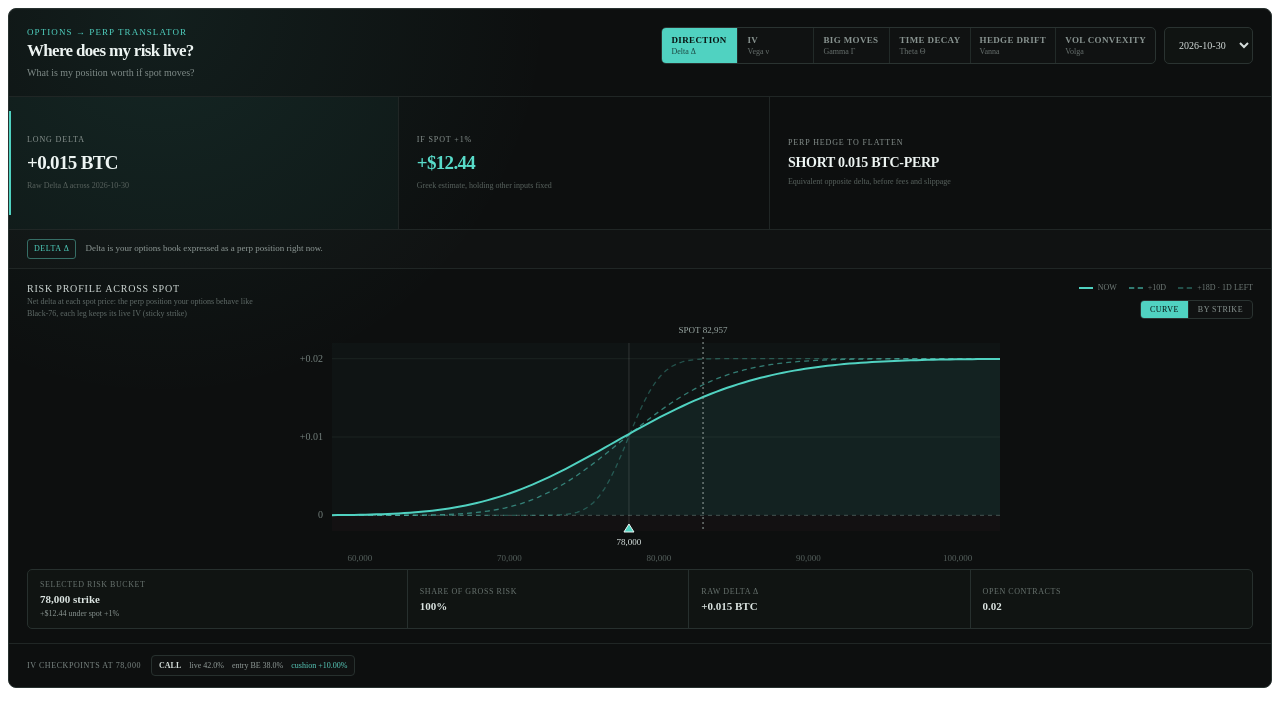
Test case: PortfolioVegaCurve › opens on the spot profile with one line per horizon and keeps the strike bars
Expected: the text "Risk profile across spot" is shown, [27, 283, 180, 294]
Expected: the text "Now" is shown, [1079, 283, 1117, 292]
Click the button "By strike" at (1220,310), box [1189, 301, 1252, 318]
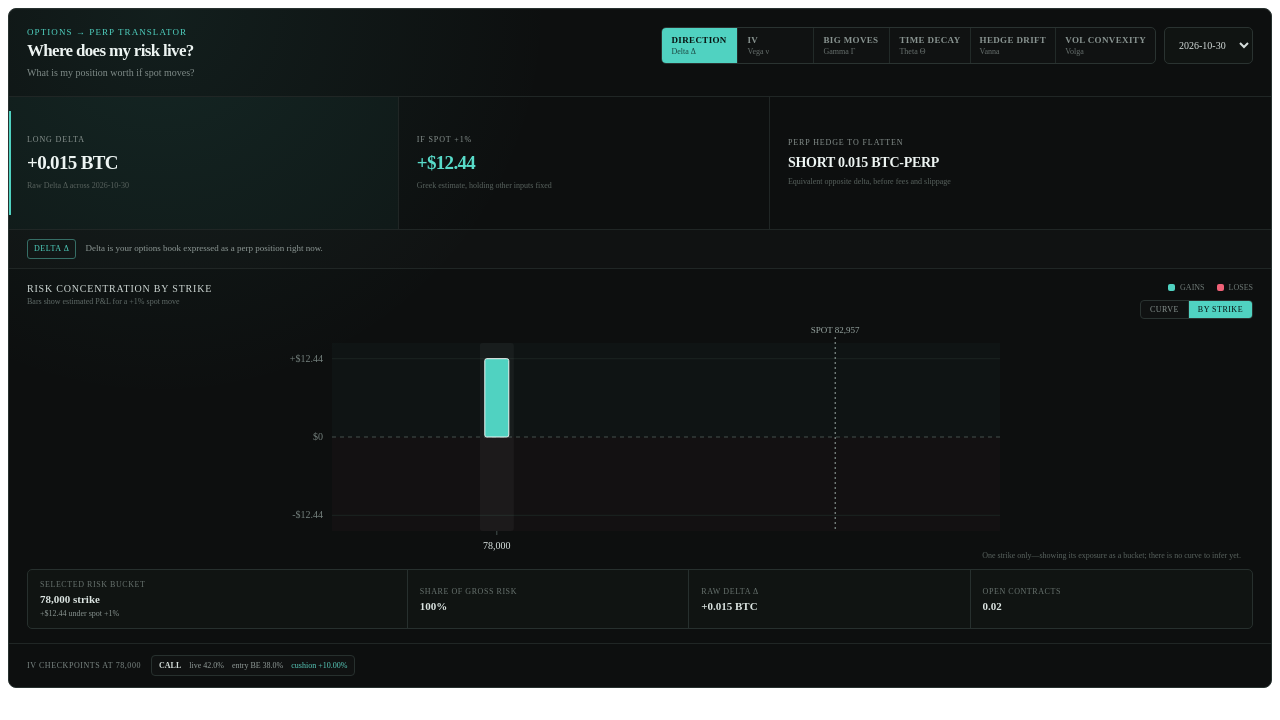
Expected: the text "Risk concentration by strike" is shown, [27, 283, 212, 294]
